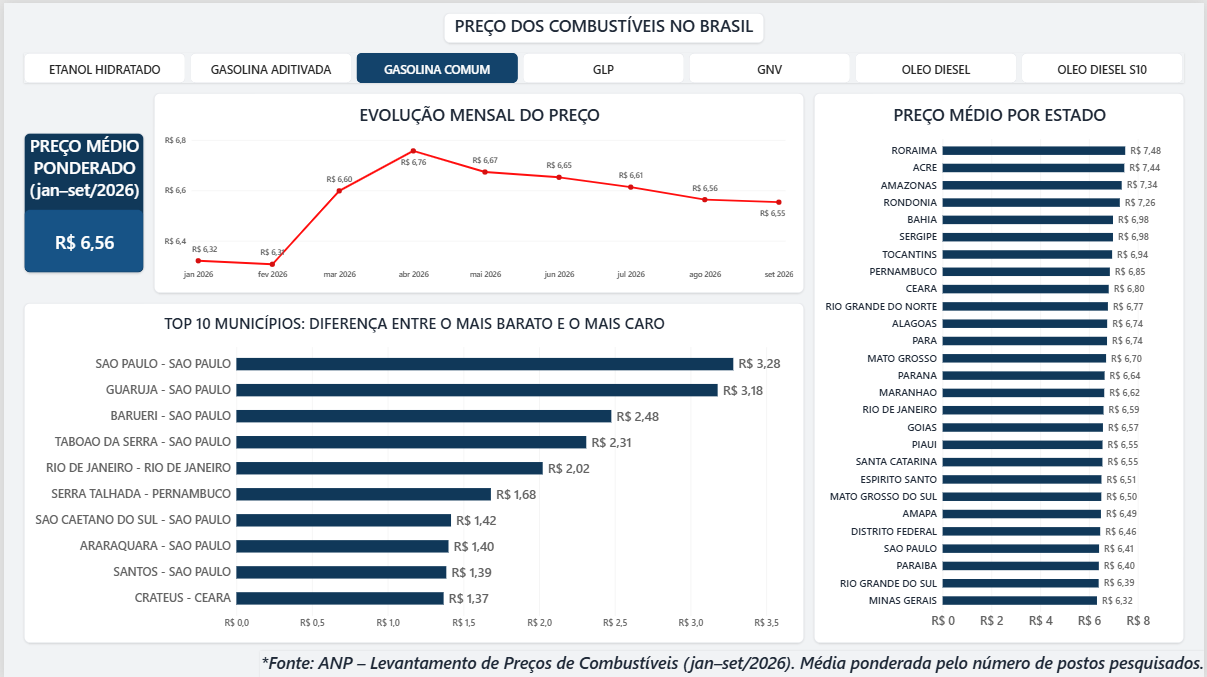

The page's visual inventory and layout, read from the dashboard file:
{"tool":"powerbi","page":{"name":"VISÃO GERAL","canvas":[1920,1080],"ordinal":0},"visuals":[{"type":"slicer","title":"PRODUTO","fields":{"Values":["dProduto.PRODUTO"]},"box":[0,0,568,346],"z":0},{"type":"cardVisual","title":"Preço médio ponderado (jan–set/2026)","fields":{"Data":["fPrecos.Preço Médio Ponderado X"]},"box":[580,0,290,346.7],"z":1000},{"type":"lineChart","title":"Evolução mensal do preço","fields":{"Y":["fPrecos.Preço Médio Ponderado X"],"Category":["fPrecos.MÊS"]},"box":[870,0,1018,346],"z":2000},{"type":"clusteredBarChart","title":"Preço médio por estado","fields":{"Category":["dLocal.ESTADO"],"Y":["fPrecos.Preço Médio Ponderado X"]},"box":[870,346,1018,676],"z":3000},{"type":"clusteredBarChart","title":"TOP 10 MUNICÍPIOS: DIFERENÇA ENTRE O MAIS BARATO E O MAIS CARO","fields":{"Category":["dLocal.Município - Estado"],"Y":["fPrecos.Amplitude Média"]},"box":[0,346,870,676],"z":4000},{"type":"textbox","box":[410,1036,1510,44],"z":6001}]}

Visuals, with their boxes in screenshot pixels (x1, y1, x2, y2), scaled from the page's 1920x1080 canvas onto the 1207x677 screenshot:
"PRODUTO" slicer: 0, 0, 357, 217
"Preço médio ponderado (jan–set/2026)" cardVisual: 365, 0, 547, 217
"Evolução mensal do preço" lineChart: 547, 0, 1187, 217
"Preço médio por estado" clusteredBarChart: 547, 217, 1187, 641
"TOP 10 MUNICÍPIOS: DIFERENÇA ENTRE O MAIS BARATO E O MAIS CARO" clusteredBarChart: 0, 217, 547, 641
textbox: 258, 649, 1206, 676
